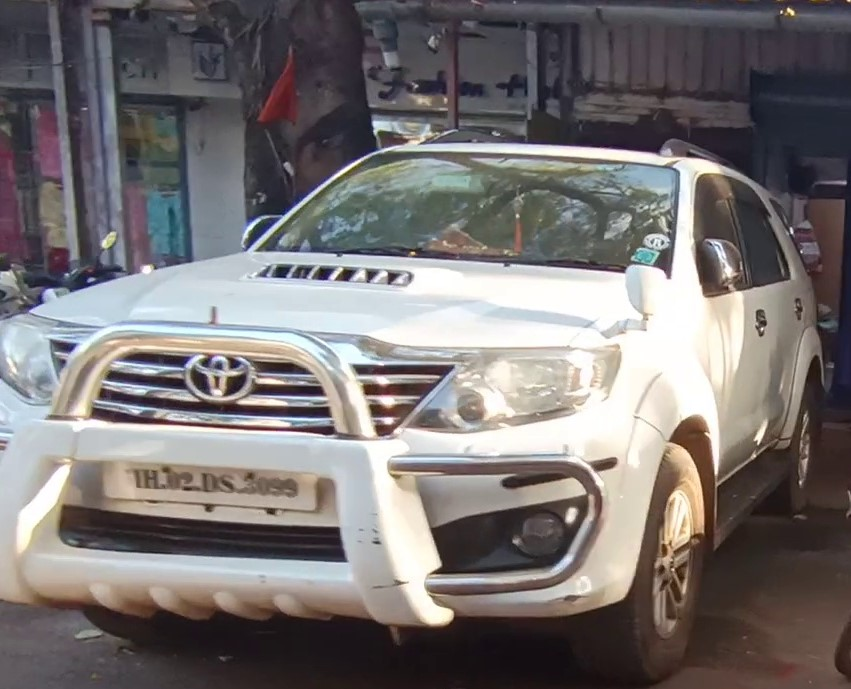MH02DS3099: (104, 464, 317, 510)
